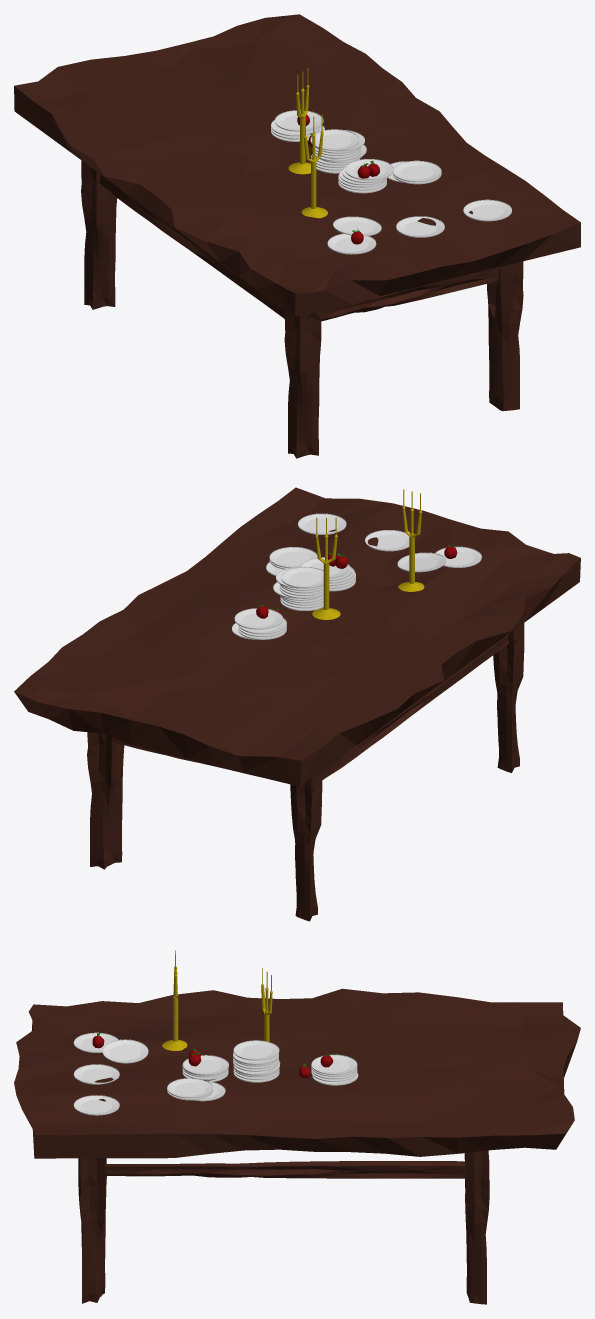
Rendered from Mesa3.dae.
3 renders of one model, top to bottom at view 1: azimuth 30°, elevation 25°; view 2: azimuth 150°, elevation 25°; view 3: azimuth 270°, elevation 25°, orthographic. The views are drawn at different scales.
Parts seen in each view (by area): view 1: Cube, Cubo.004, Cubo.001, Cubo.003, Cubo.006, Cubo.007, Cilindro, Cilindro.028, Cilindro.027, Cilindro.001, Cilindro.020, Cilindro.013 (+4 smaller); view 2: Cube, Cubo.002, Cubo.003, Cubo.004, Cubo.007, Cilindro.028, Cilindro, Cilindro.001, Cilindro.020, Cilindro.032, Cilindro.027, Cilindro.013 (+2 smaller); view 3: Cube, Cubo.005, Cubo.001, Cubo.002, Cilindro.004, Cilindro.020, Cilindro.027, Cilindro.001, Cilindro.013, Cilindro.010, Cilindro.032, Cilindro (+2 smaller).
Part boxes in pixels (x1=…): Cube: x1=14, y1=14, x2=580, y2=316; Cubo.004: x1=284, y1=257, x2=321, y2=458; Cubo.001: x1=487, y1=261, x2=523, y2=411; Cubo.003: x1=81, y1=160, x2=117, y2=309; Cubo.006: x1=321, y1=267, x2=499, y2=321; Cubo.007: x1=94, y1=174, x2=310, y2=329; Cilindro: x1=301, y1=114, x2=327, y2=218; Cilindro.028: x1=288, y1=68, x2=310, y2=174; Cilindro.027: x1=393, y1=160, x2=441, y2=182; Cilindro.001: x1=463, y1=199, x2=511, y2=221; Cilindro.020: x1=310, y1=129, x2=359, y2=150; Cilindro.013: x1=396, y1=216, x2=444, y2=237; Cube: x1=14, y1=487, x2=580, y2=786; Cubo.002: x1=87, y1=732, x2=124, y2=869; Cubo.003: x1=290, y1=771, x2=322, y2=921; Cubo.004: x1=493, y1=567, x2=524, y2=772; Cubo.007: x1=314, y1=630, x2=518, y2=785; Cilindro.028: x1=312, y1=517, x2=340, y2=619; Cilindro: x1=398, y1=489, x2=424, y2=591; Cilindro.001: x1=298, y1=513, x2=346, y2=534; Cilindro.020: x1=281, y1=567, x2=329, y2=588; Cilindro.032: x1=234, y1=608, x2=282, y2=629; Cilindro.027: x1=269, y1=547, x2=317, y2=568; Cilindro.013: x1=365, y1=530, x2=409, y2=551; Cube: x1=14, y1=988, x2=580, y2=1158; Cubo.005: x1=105, y1=1161, x2=465, y2=1178; Cubo.001: x1=78, y1=1158, x2=106, y2=1303; Cubo.002: x1=464, y1=1150, x2=489, y2=1304; Cilindro.004: x1=102, y1=1039, x2=148, y2=1063; Cilindro.020: x1=233, y1=1040, x2=279, y2=1060; Cilindro.027: x1=167, y1=1078, x2=212, y2=1098; Cilindro.001: x1=73, y1=1095, x2=119, y2=1115; Cilindro.013: x1=73, y1=1064, x2=119, y2=1084; Cilindro.010: x1=183, y1=1055, x2=228, y2=1075; Cilindro.032: x1=311, y1=1054, x2=357, y2=1074; Cilindro: x1=162, y1=950, x2=187, y2=1050.
Size of the model in its own units: 3.89 by 6.29 by 3.4.
